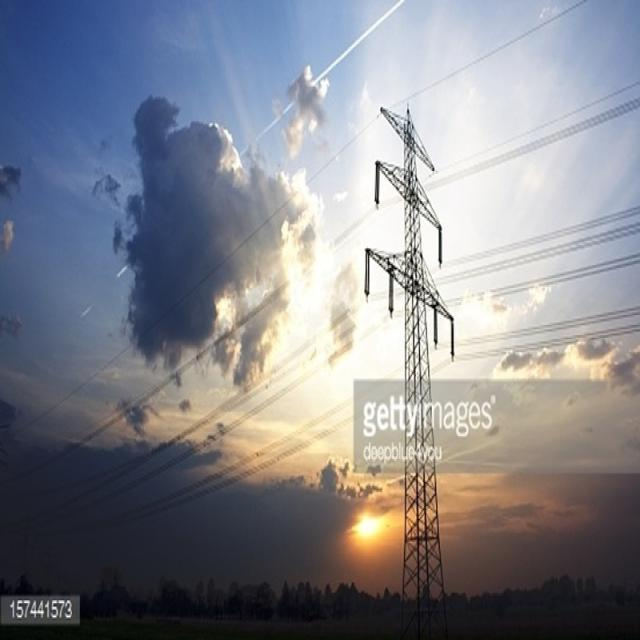non-critical vegetation: (353, 90, 471, 623)
